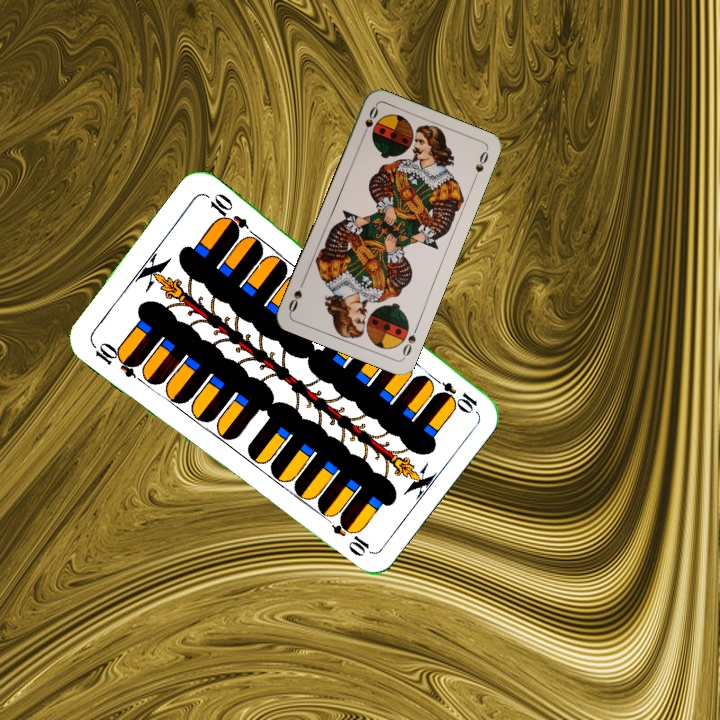E10: (87, 338, 142, 381), (426, 372, 480, 415)
SO: (358, 102, 381, 141), (398, 322, 421, 361)
